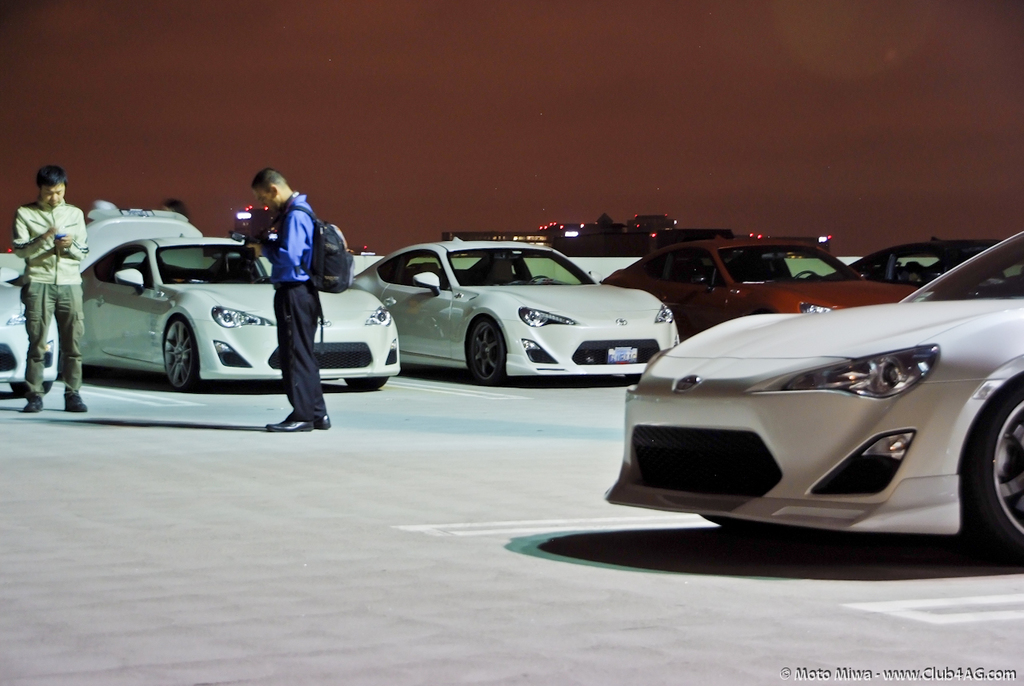Car: (615, 250, 1012, 557), (342, 237, 682, 388), (79, 238, 396, 393), (603, 237, 928, 344), (0, 280, 56, 396)
